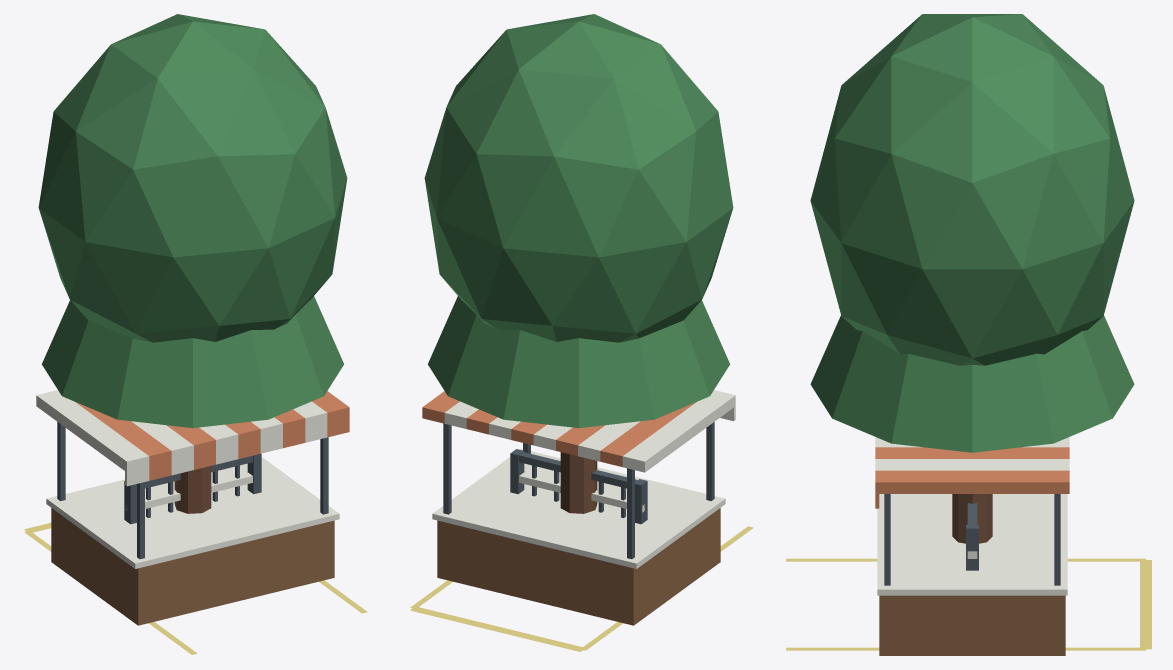
The model's file is props_001.glb.
3 renders of one model, left to right at view 1: azimuth 30°, elevation 25°; view 2: azimuth 150°, elevation 25°; view 3: azimuth 270°, elevation 25°, orthographic. The views are drawn at different scales.
Visible parts, largest first — view 1: prop_tree_round, prop_stall, prop_tree_tall, prop_fence_segment, prop_railing_segment, prop_bay_marking; view 2: prop_tree_round, prop_stall, prop_tree_tall, prop_fence_segment, prop_bay_marking, prop_railing_segment; view 3: prop_tree_round, prop_stall, prop_tree_tall, prop_bay_marking, prop_fence_segment.
Part boxes in pixels (x1,y1,x2,y2): prop_tree_round: [38, 14, 347, 513]; prop_stall: [36, 390, 349, 625]; prop_tree_tall: [42, 296, 343, 428]; prop_fence_segment: [124, 453, 261, 524]; prop_railing_segment: [124, 472, 260, 522]; prop_bay_marking: [24, 523, 367, 654]; prop_tree_round: [424, 14, 733, 513]; prop_stall: [422, 390, 735, 625]; prop_tree_tall: [428, 296, 729, 428]; prop_fence_segment: [510, 449, 647, 524]; prop_bay_marking: [410, 526, 753, 651]; prop_railing_segment: [510, 472, 647, 522]; prop_tree_round: [810, 14, 1134, 543]; prop_stall: [875, 437, 1069, 655]; prop_tree_tall: [810, 315, 1134, 452]; prop_bay_marking: [786, 558, 1151, 650]; prop_fence_segment: [966, 503, 978, 570].
Size of the model in its own units: 4 by 8 by 4.6.
1 material, 1 textured.
